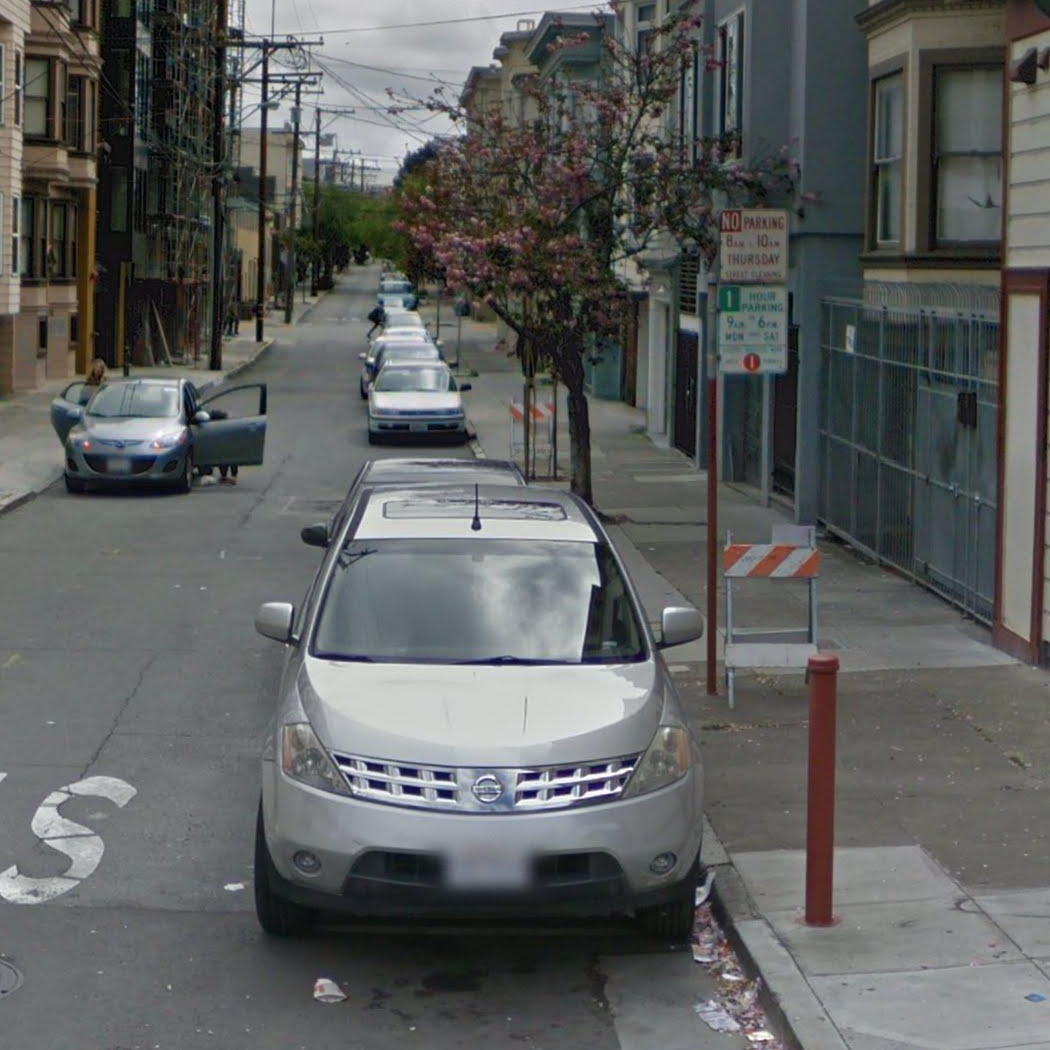1 Hour Parking: (716, 283, 791, 374)
No Parking: (717, 207, 790, 283)
